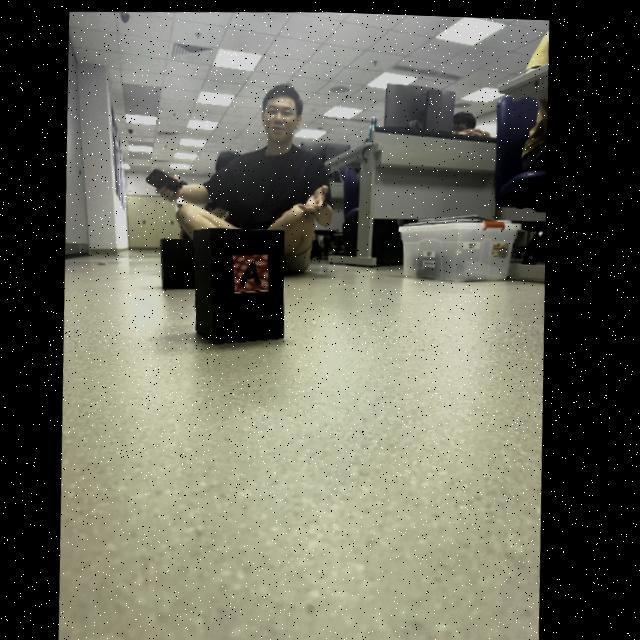A: (244, 259, 262, 284)
